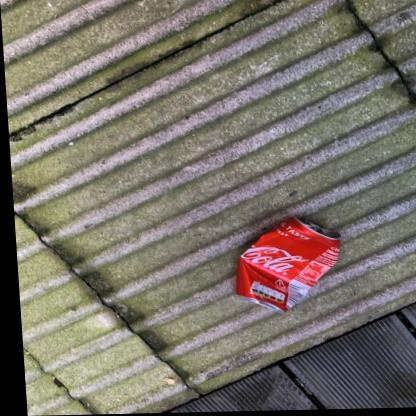trash: (236, 218, 339, 310)
